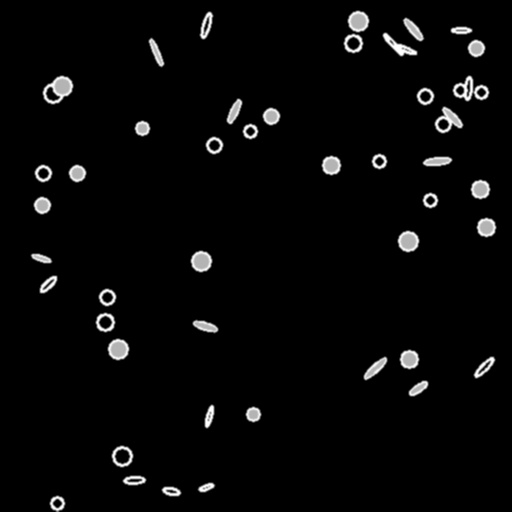pseudomonas: (362, 356, 388, 380), (402, 17, 424, 41), (382, 32, 404, 56), (441, 106, 463, 128), (473, 356, 495, 378), (148, 38, 164, 66), (199, 11, 213, 39), (226, 99, 242, 123), (192, 319, 218, 333), (39, 275, 57, 293), (408, 380, 428, 396), (423, 156, 451, 166), (394, 43, 416, 55), (204, 405, 214, 427), (464, 76, 472, 100), (32, 253, 50, 263), (123, 476, 145, 484), (163, 486, 179, 496), (198, 482, 214, 492), (452, 28, 471, 33)
synechocystis: (399, 232, 417, 250), (113, 447, 131, 465), (44, 84, 62, 102), (109, 340, 127, 358), (349, 12, 367, 30), (192, 252, 210, 270), (53, 77, 71, 95), (401, 351, 417, 367), (478, 219, 494, 235), (472, 181, 488, 197), (345, 35, 361, 51), (323, 157, 339, 173), (97, 314, 113, 330), (36, 166, 50, 180), (207, 138, 221, 152), (418, 89, 432, 103), (100, 290, 114, 304), (469, 41, 483, 55), (35, 198, 49, 212), (70, 166, 84, 180), (436, 117, 450, 131), (264, 109, 278, 123), (373, 155, 385, 167), (136, 122, 148, 134), (424, 194, 436, 206), (244, 125, 256, 137), (51, 497, 63, 509), (454, 84, 466, 96), (475, 86, 487, 98), (247, 408, 259, 420)
